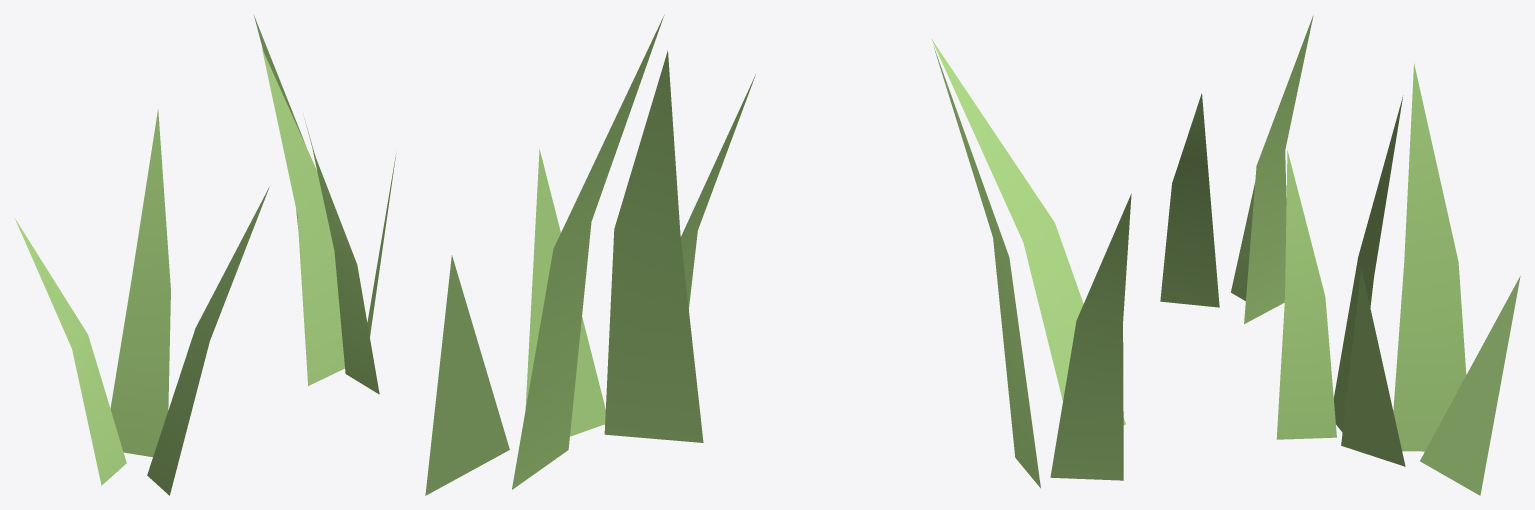
The model's file is Grass_a_TwoS_05.fbx.
3 views of the same model, side by side, from view 1: azimuth 30°, elevation 25°; view 2: azimuth 150°, elevation 25°; view 3: azimuth 270°, elevation 25° (orthographic). The views are drawn at different scales.
Parts seen in each view (by area): view 1: Grass_a_TwoS_05; view 2: Grass_a_TwoS_05; view 3: Grass_a_TwoS_05.
Boxes of the visible parts, x1=… form: Grass_a_TwoS_05: x1=15, y1=15, x2=396, y2=495; Grass_a_TwoS_05: x1=425, y1=15, x2=1131, y2=495; Grass_a_TwoS_05: x1=1160, y1=15, x2=1520, y2=495.
Size of the model in its own units: 80 by 64.05 by 57.49.
